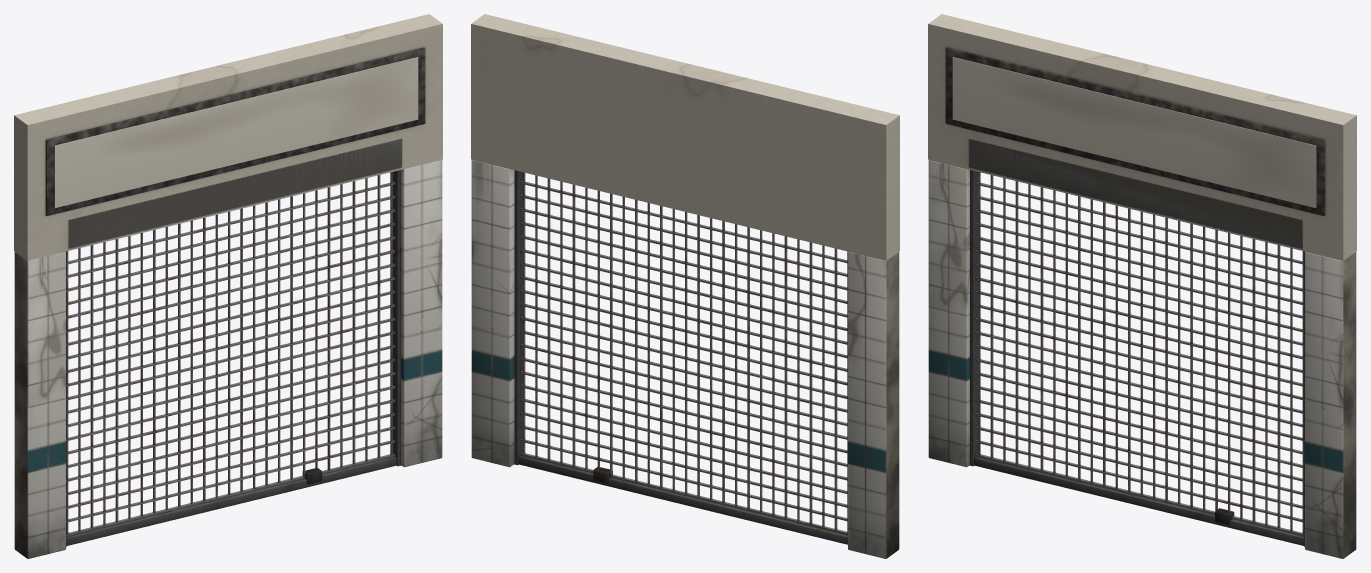
The model's file is shutter_front.fbx.
The picture shows the model from 3 angles, left to right: view 1: azimuth 30°, elevation 25°; view 2: azimuth 150°, elevation 25°; view 3: azimuth 330°, elevation 25°; orthographic projection.
Parts seen in each view (by area): view 1: Body, Door, Screen; view 2: Body, Door; view 3: Body, Door, Screen.
Boxes of the visible parts, left/top/right/bottom form: Body: left=14, top=14, right=442, bottom=558; Door: left=66, top=172, right=396, bottom=545; Screen: left=54, top=57, right=418, bottom=207; Body: left=471, top=14, right=899, bottom=558; Door: left=518, top=172, right=847, bottom=544; Body: left=928, top=14, right=1356, bottom=558; Door: left=974, top=172, right=1304, bottom=545; Screen: left=952, top=57, right=1316, bottom=207.
Size of the model in its own units: 16 by 16 by 1.
Materials: 2 (2 with a texture image).
